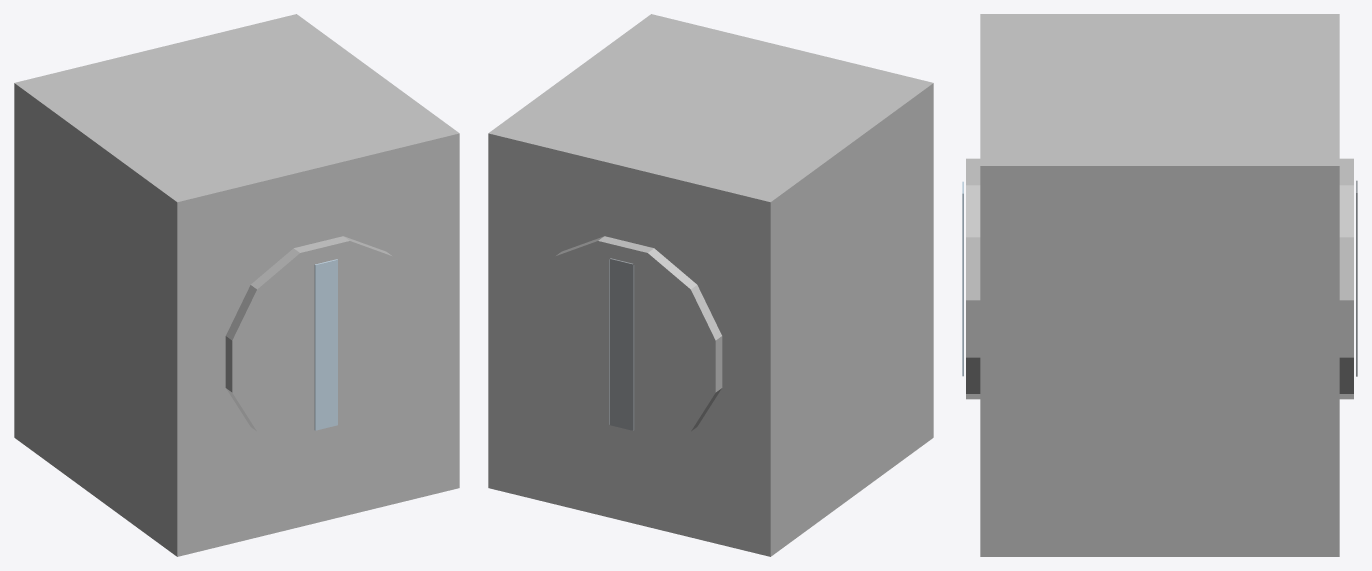
The model's file is cooler.obj.
3 views of the same model, side by side, from view 1: azimuth 30°, elevation 25°; view 2: azimuth 150°, elevation 25°; view 3: azimuth 270°, elevation 25° (orthographic). The views are drawn at different scales.
Visible parts, largest first — view 1: cooler; view 2: cooler; view 3: cooler.
Boxes of the visible parts, x1=… form: cooler: x1=14, y1=14, x2=459, y2=556; cooler: x1=488, y1=14, x2=933, y2=556; cooler: x1=962, y1=14, x2=1357, y2=556.
Size of the model in its own units: 1 by 1.2 by 1.1.
